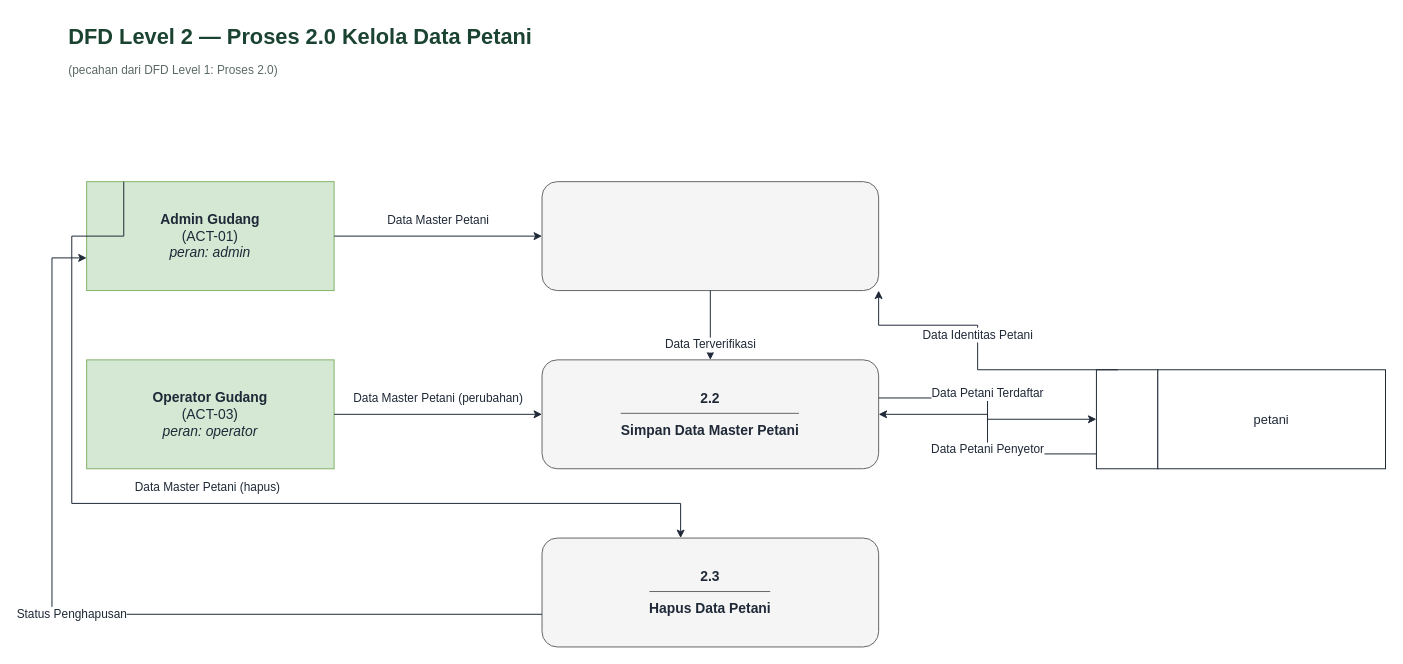
This 1403x664 diagram has some shape labels left out. The shapes that lost their labels are listed below. From the top down, each one's centre as x and y in pixels, then its label:
the point at 710,236: 2.1 Validasi Identitas Petani
the point at 1126,419: D1
